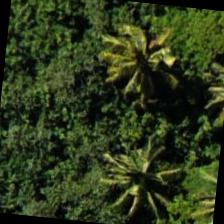Kelapa_Sawit: (98, 18, 198, 117), (78, 124, 177, 222)
